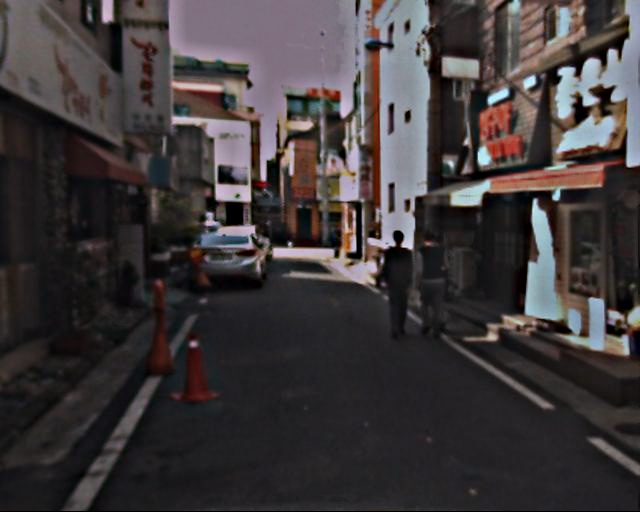person: (380, 230, 425, 340), (414, 232, 457, 336)
